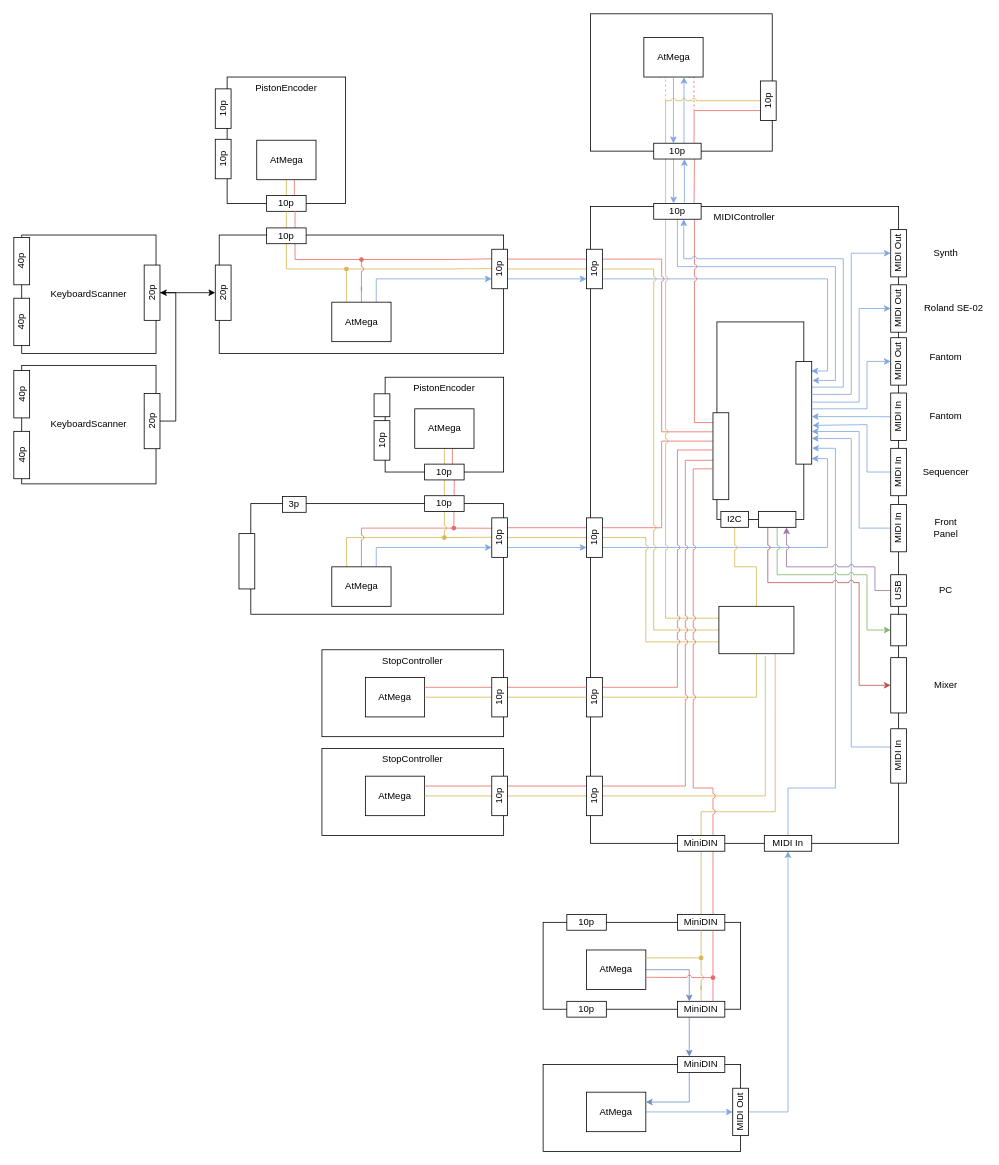
This 999x1165 diagram has some shape labels left out. Here are the shapes that lost their labels. From the top down, the box of each, then its label:
(590, 13, 772, 151): PanelController
(218, 234, 504, 354): KeyboardEncoder
(373, 393, 390, 417): 2p
(716, 321, 804, 519): Teensy 4.1
(795, 361, 812, 464): UART
(712, 412, 729, 500): GPIO
(758, 511, 796, 527): IO
(238, 533, 255, 589): 16p
(250, 503, 504, 614): TechnicsEncoder
(718, 606, 794, 654): I2C Expander
(890, 613, 907, 646): LAN
(890, 657, 907, 713): Audio Out
(542, 922, 741, 1009): ToeStudEncoder
(542, 1064, 741, 1151): PedalEncoder
